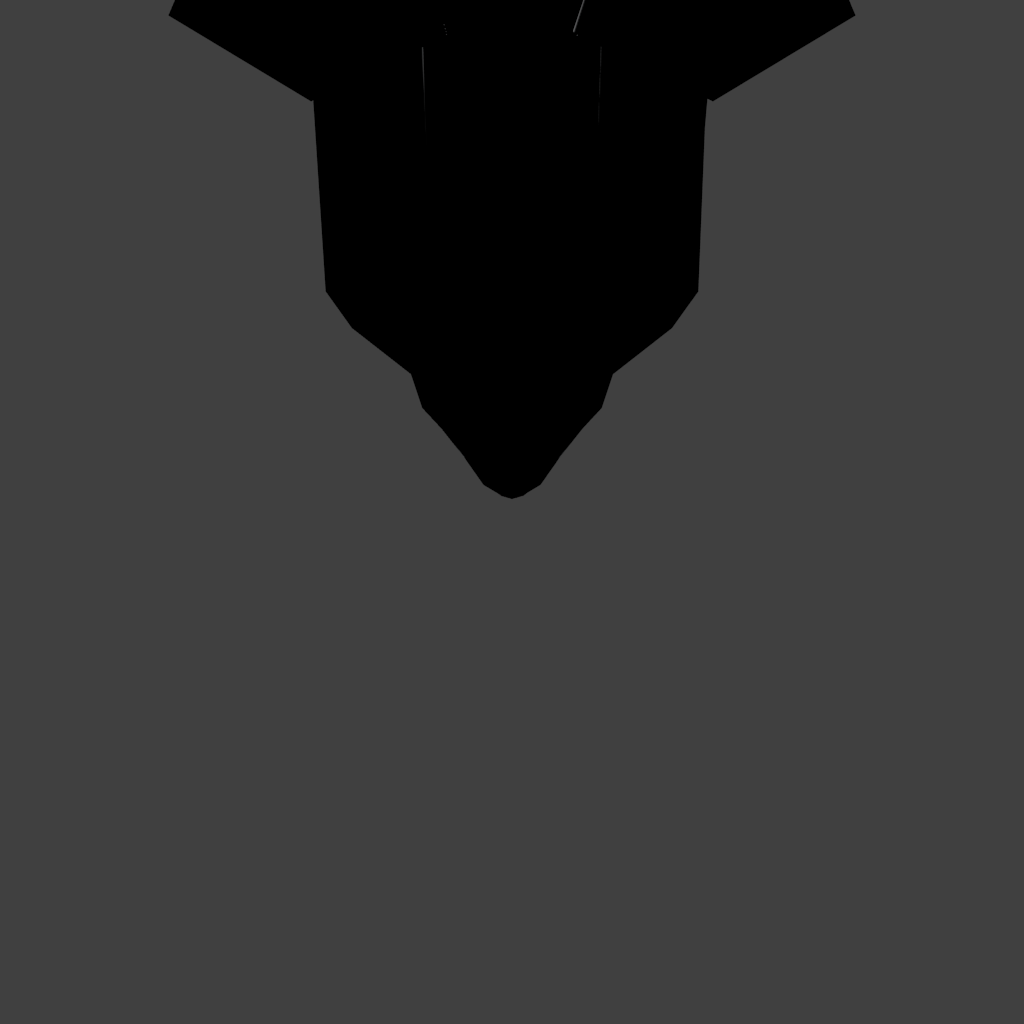Cat: (0, 0, 1024, 499)
